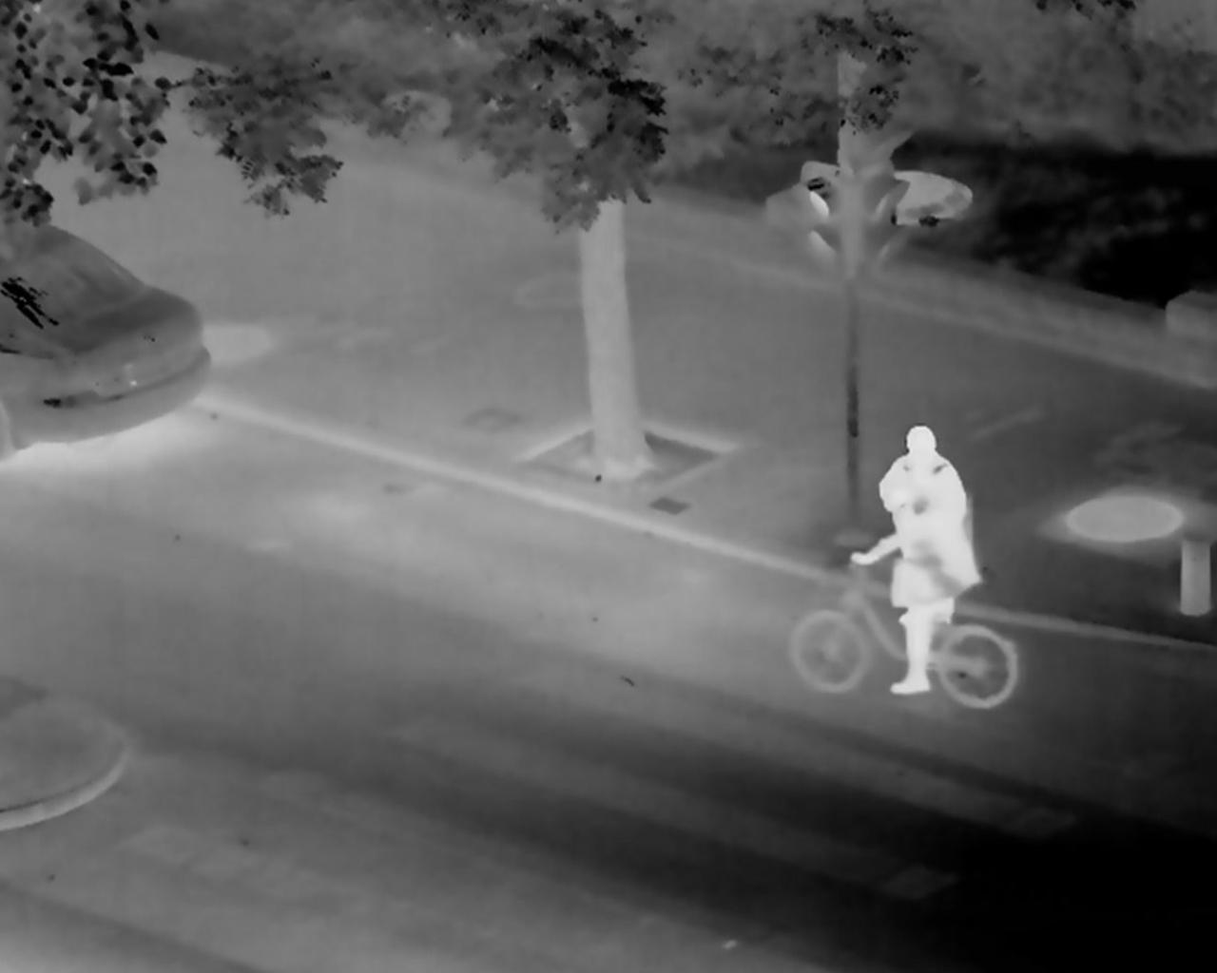person: (852, 484, 964, 693), (869, 422, 980, 612)
